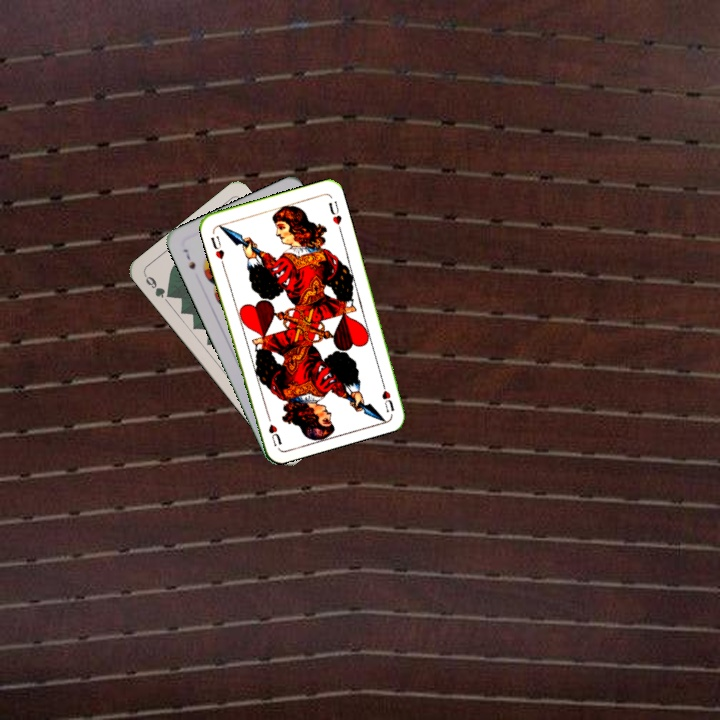G9: (140, 271, 175, 301)
HU: (377, 375, 396, 415), (207, 232, 227, 267)
S7: (179, 245, 198, 272)
